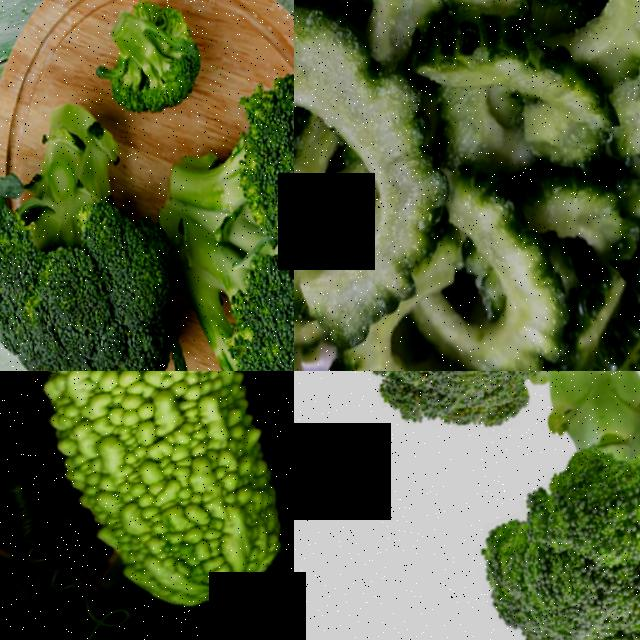bitter gourd: (0, 371, 294, 640)
broccoli: (0, 81, 206, 371), (448, 371, 640, 640), (128, 63, 294, 371), (313, 371, 605, 475), (91, 0, 225, 122)
